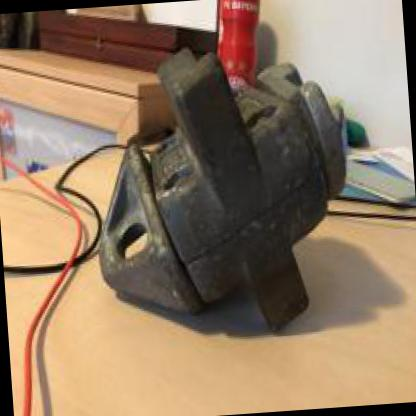Twistlock: (73, 30, 366, 356)
